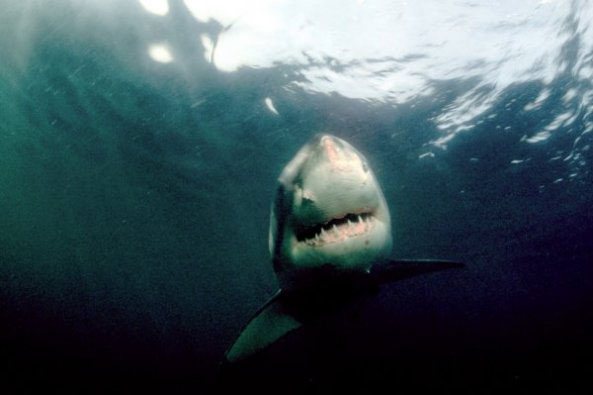Carcharodon_carcharias: (222, 129, 463, 375)
